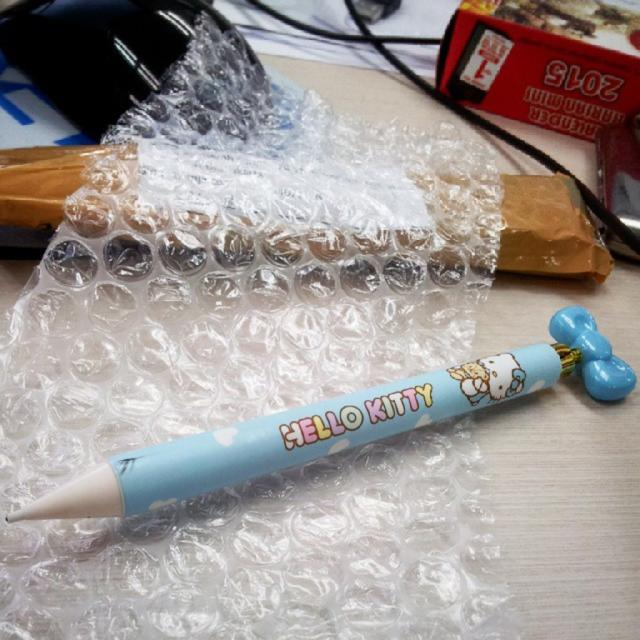pen: (1, 308, 630, 529)
